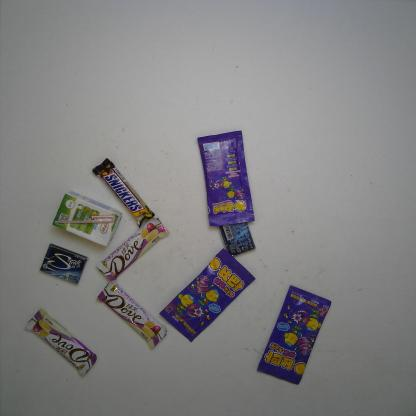Candy: (160, 249, 255, 343), (257, 286, 331, 385), (197, 129, 254, 226)
Chocolate: (24, 308, 96, 378), (94, 218, 170, 284), (96, 280, 167, 349), (92, 158, 154, 226)
Gum: (39, 244, 88, 284), (217, 207, 255, 255)
Milk: (52, 191, 122, 247)
